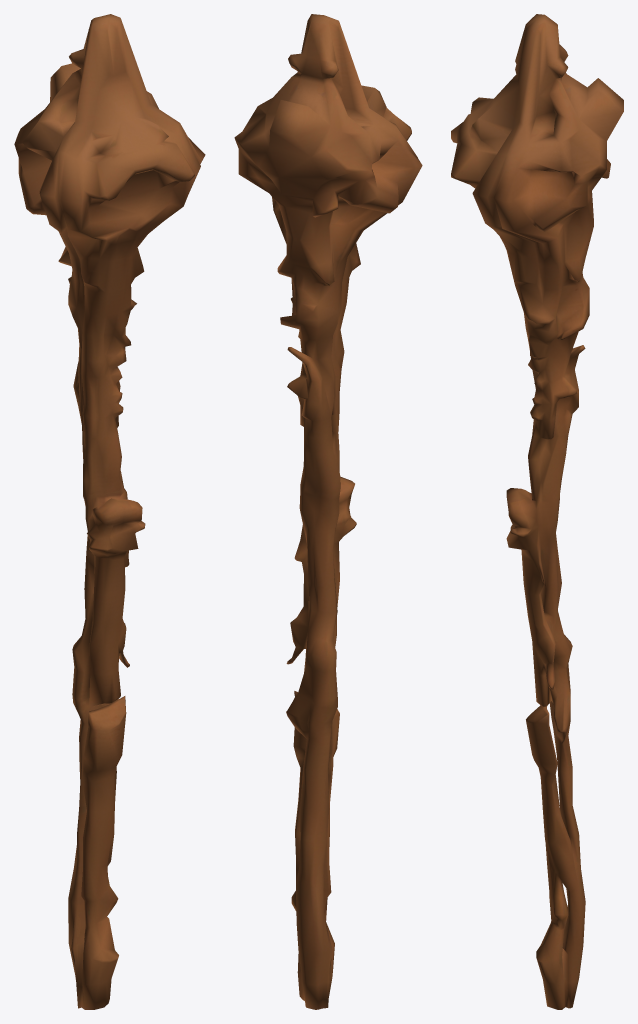
File: emberquench_staff.glb
3 renders of one model, left to right at view 1: azimuth 30°, elevation 25°; view 2: azimuth 150°, elevation 25°; view 3: azimuth 270°, elevation 25°, orthographic.
Parts seen in each view (by area): view 1: base_model_path; view 2: base_model_path; view 3: base_model_path.
Part boxes in pixels (bbox=[...]): base_model_path: bbox=[14, 14, 205, 1009]; base_model_path: bbox=[234, 14, 422, 1009]; base_model_path: bbox=[451, 14, 623, 1009].
Size of the model in its own units: 0.1741 by 0.9998 by 0.1585.
1 material, 1 textured.
